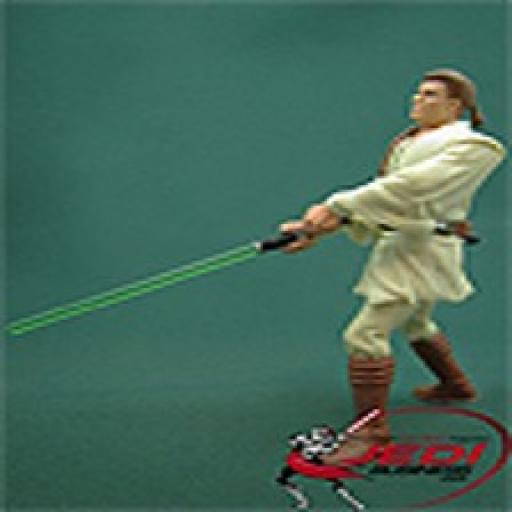human: (262, 62, 510, 441)
lightsaber: (4, 209, 341, 362)
